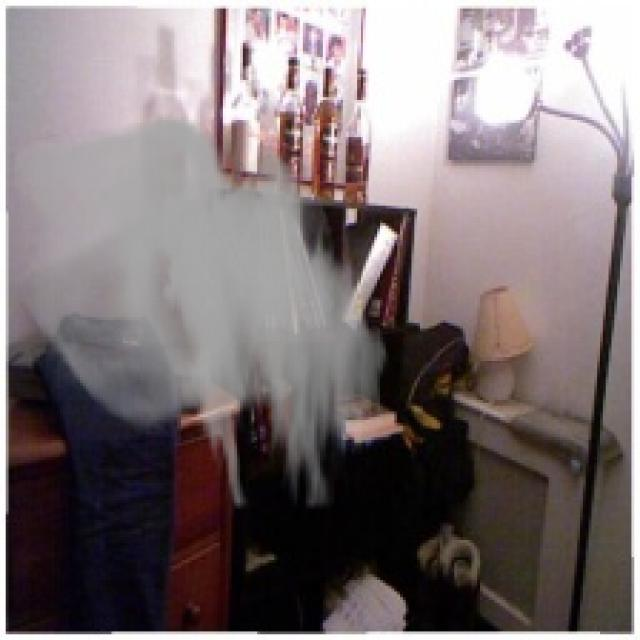smoke: (11, 114, 392, 509)
